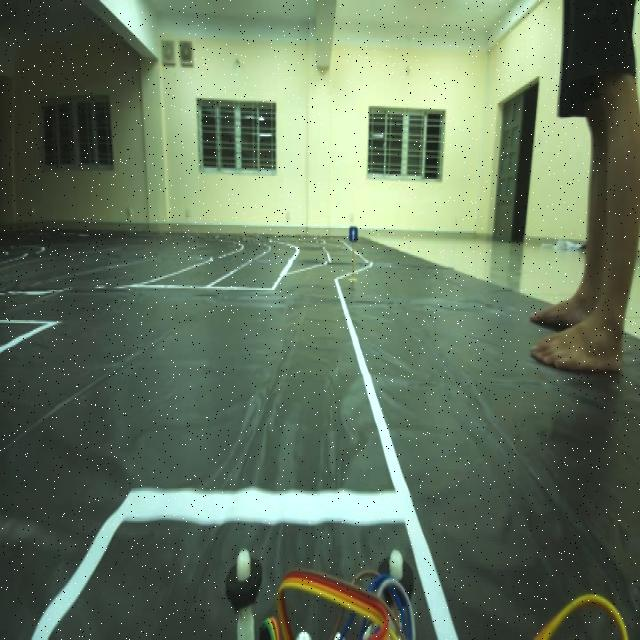onewayroad: (346, 222, 362, 250)
